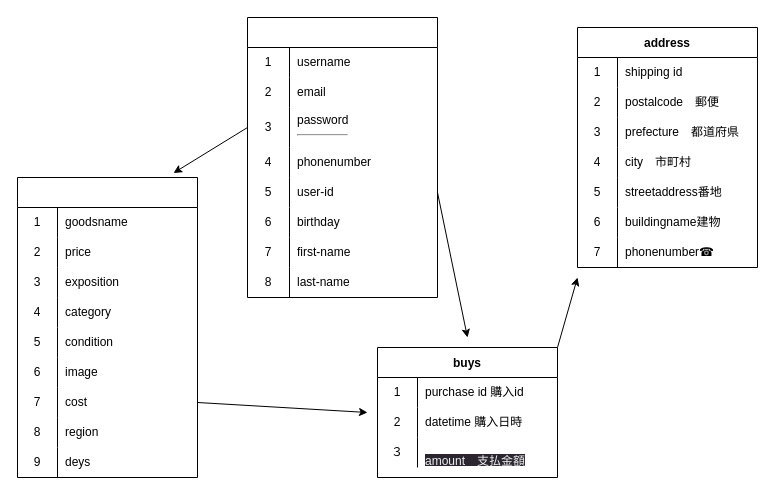
Image size: 775x495. Some labels were removed from this diagram. The box of each missing label's shape, as (x1, y1, x2, y2) in pixels:
items: (16, 176, 198, 478)
users: (246, 16, 438, 298)
